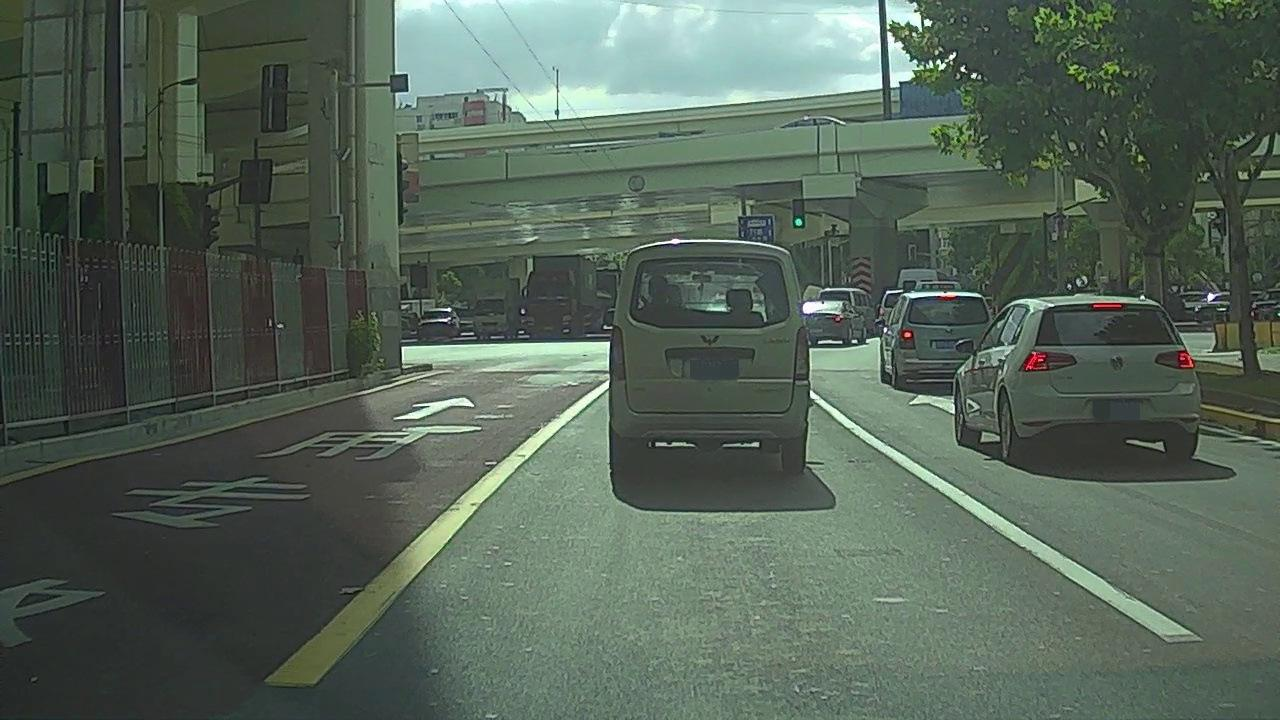traffic_light: (791, 199, 804, 228)
